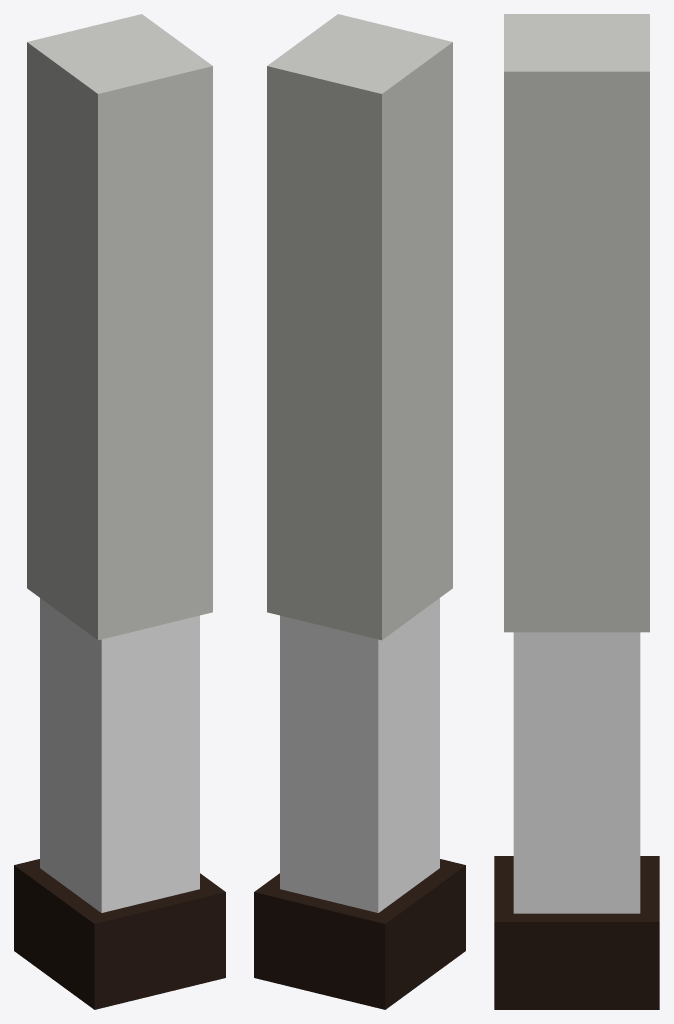
The model's file is carreta_leg_percheron.obj.
3 renders of one model, left to right at view 1: azimuth 30°, elevation 25°; view 2: azimuth 150°, elevation 25°; view 3: azimuth 270°, elevation 25°, orthographic. The views are drawn at different scales.
Visible parts, largest first — view 1: carreta_leg_percheron; view 2: carreta_leg_percheron; view 3: carreta_leg_percheron.
Part boxes in pixels (left/top/right/bottom): carreta_leg_percheron: left=14, top=14, right=225, bottom=1009; carreta_leg_percheron: left=254, top=14, right=465, bottom=1009; carreta_leg_percheron: left=494, top=14, right=659, bottom=1009.
Size of the model in its own units: 0.1856 by 1.23 by 0.1972.
